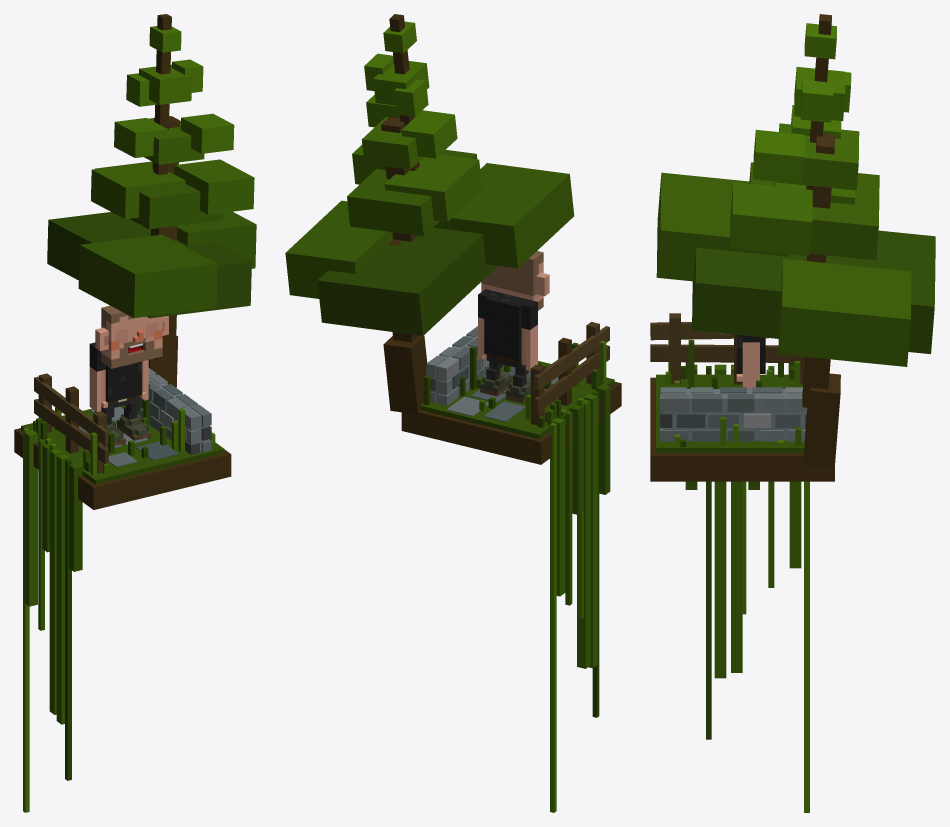
Rendered from me_hero.gltf.
3 renders of one model, left to right at view 1: azimuth 30°, elevation 25°; view 2: azimuth 150°, elevation 25°; view 3: azimuth 270°, elevation 25°, orthographic. The views are drawn at different scales.
Parts seen in each view (by area): view 1: block, head, body, footL, armUpR; view 2: block, body, head, armUpR; view 3: block.
Boxes of the visible parts, x1,y1,x2,y2 form: block: (14, 14, 256, 812); head: (95, 305, 168, 368); body: (105, 361, 142, 402); footL: (117, 414, 151, 440); armUpR: (89, 342, 105, 380); block: (285, 14, 621, 812); body: (484, 291, 528, 361); head: (481, 251, 549, 310); armUpR: (521, 299, 537, 338); block: (650, 14, 935, 812).
Size of the model in its own units: 52.12 by 168 by 49.49.
Materials: 2 (2 with a texture image).
